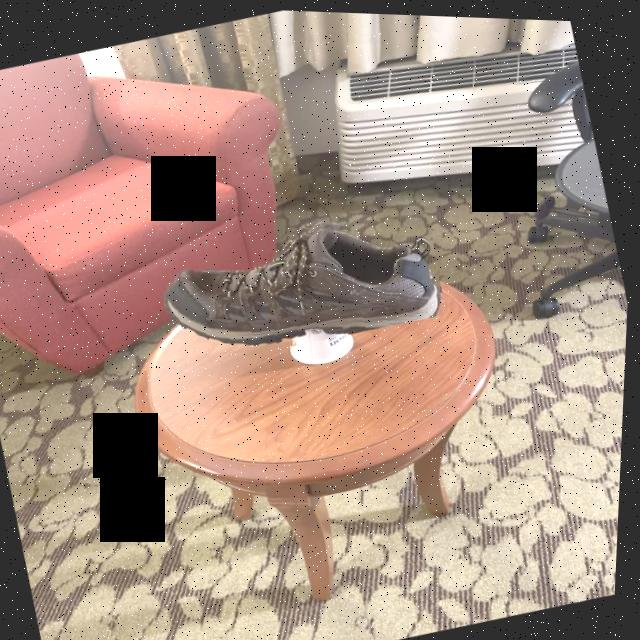shoe: (153, 186, 454, 376)
